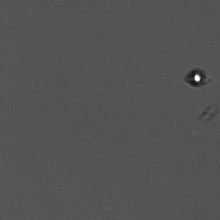Living Cell: (183, 63, 209, 91)
